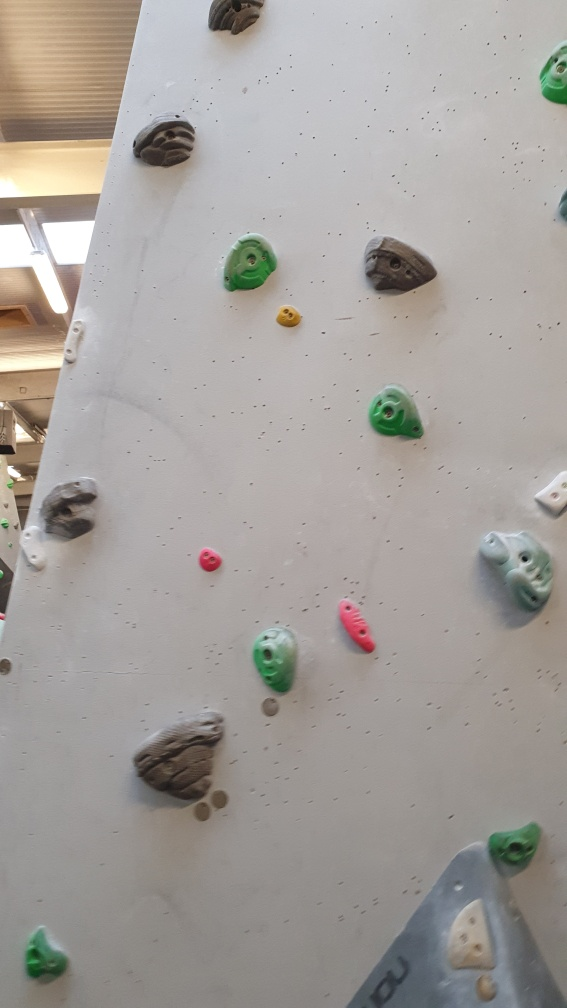Crimp: (335, 595, 380, 656), (536, 473, 567, 520), (59, 314, 86, 365), (21, 525, 50, 571)
Hand Start: (475, 972, 503, 1002), (190, 799, 214, 823), (260, 697, 280, 721), (211, 789, 229, 815), (1, 658, 14, 678)
Jug: (131, 704, 231, 795), (479, 524, 559, 614), (359, 232, 440, 303), (39, 471, 99, 545), (130, 109, 197, 174), (219, 229, 280, 293), (370, 382, 424, 448), (485, 817, 547, 870), (253, 624, 295, 694)
Pinch: (273, 299, 303, 331)
